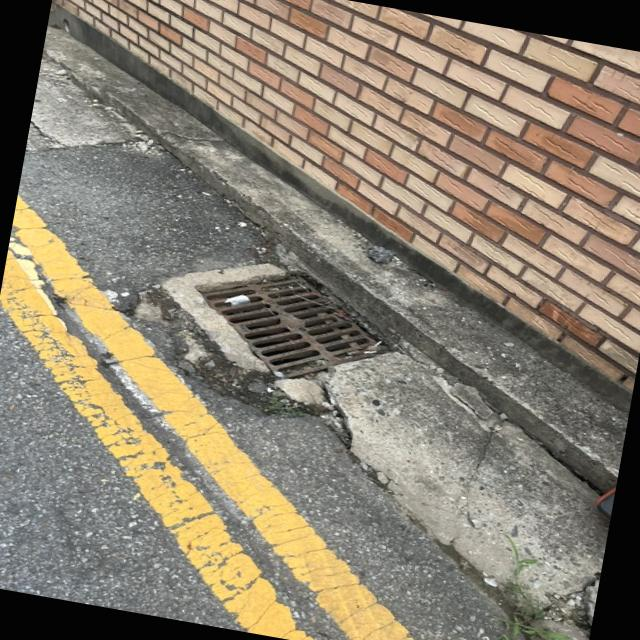drain_area: (200, 288, 368, 369)
drain_full: (200, 278, 383, 377)
